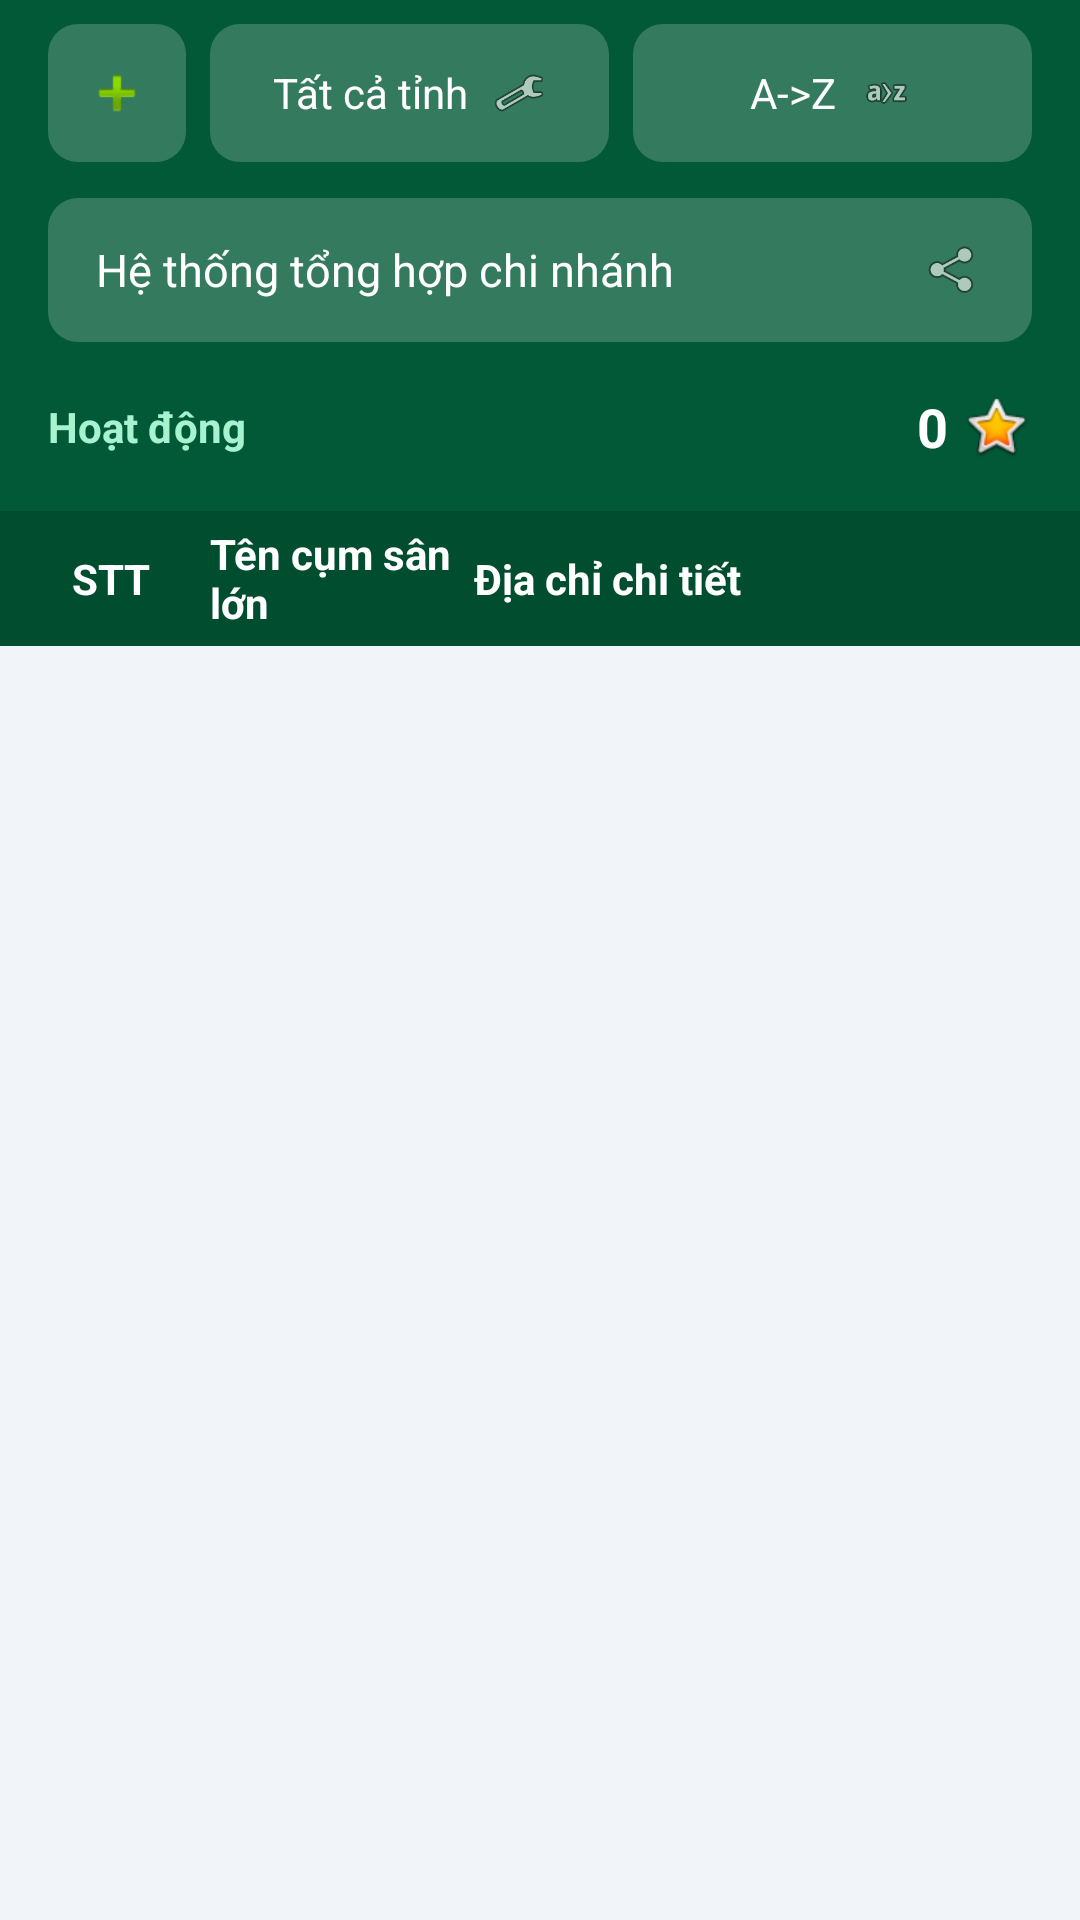

Where to tap for icons on this 1080*1920 app screen, as (x=x, y=y):
add: (x=117, y=93)
manage: (x=519, y=93)
share: (x=951, y=269)
sort alphabetically: (x=886, y=93)
star on: (x=997, y=426)
